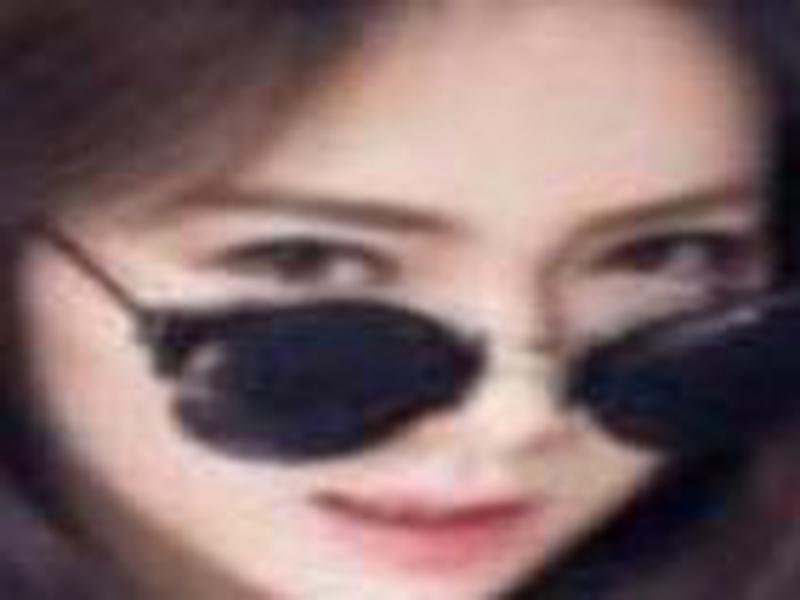without_mask: (31, 63, 772, 584)
